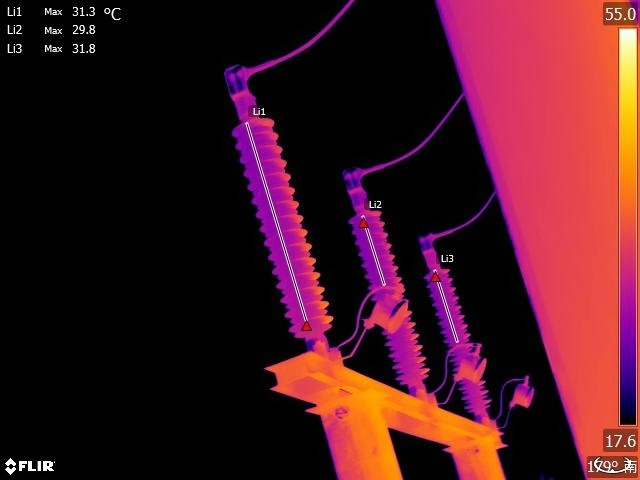lightning arrester: (224, 107, 343, 351), (345, 201, 432, 383), (422, 261, 494, 413)
